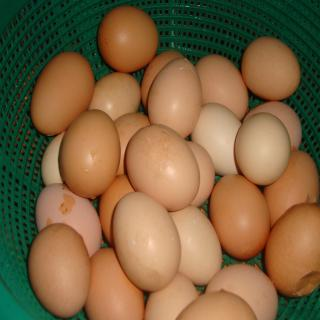Telur: (25, 3, 320, 320)
